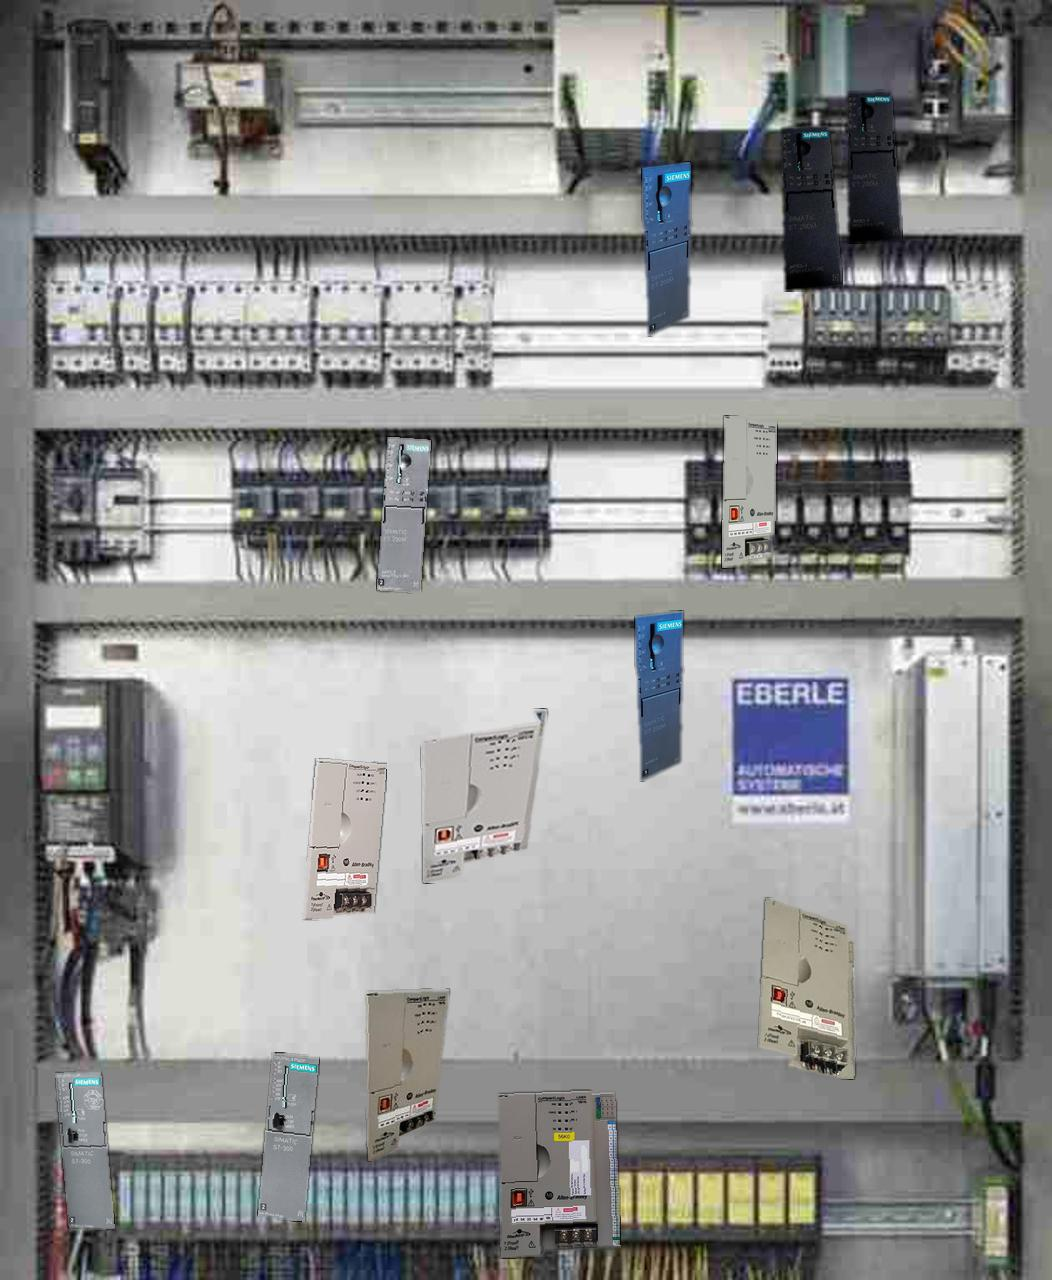AllenBradley: (422, 709, 546, 882), (499, 1091, 620, 1257), (759, 898, 854, 1078), (366, 989, 448, 1160), (304, 759, 386, 917), (722, 416, 776, 567)
Siemens: (258, 1052, 318, 1222), (56, 1072, 114, 1229)
